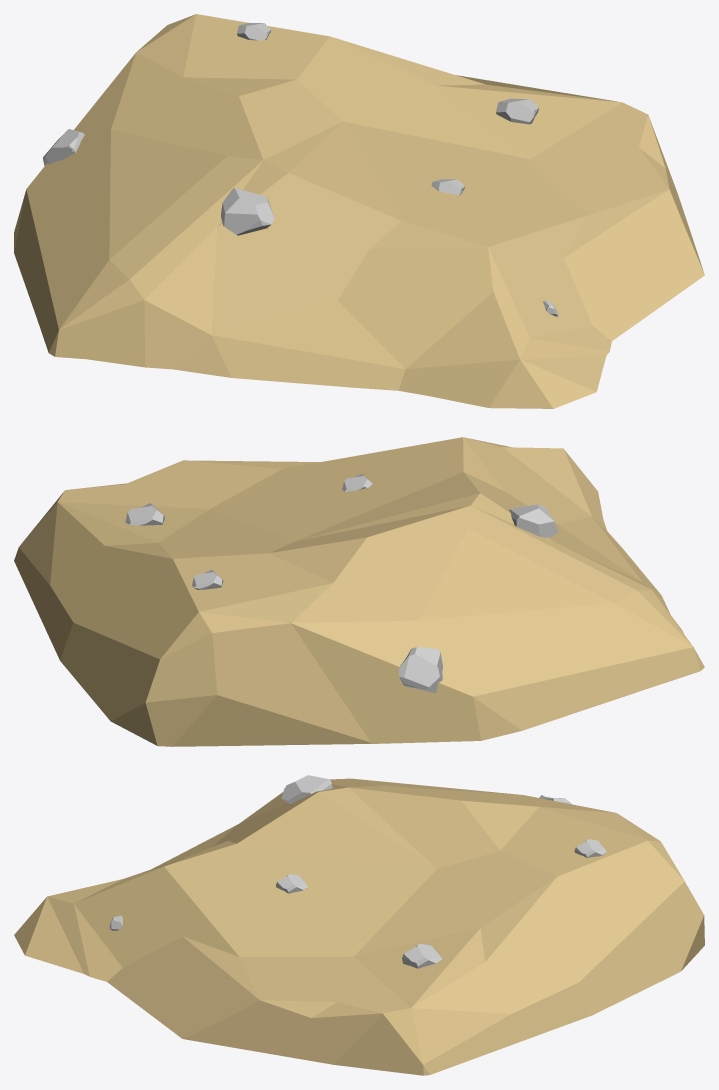
Rendered from Wh_Sand_Pile.fbx.
The picture shows the model from 3 angles, top to bottom: view 1: azimuth 30°, elevation 25°; view 2: azimuth 150°, elevation 25°; view 3: azimuth 270°, elevation 25°; orthographic projection. The views are drawn at different scales.
Parts seen in each view (by area): view 1: LowPolyRock.014; view 2: LowPolyRock.014; view 3: LowPolyRock.014.
Boxes of the visible parts, x1,y1,x2,y2 form: LowPolyRock.014: (14, 14, 704, 408); LowPolyRock.014: (14, 437, 704, 746); LowPolyRock.014: (14, 775, 704, 1075).
Bounding box in the file's own units: 697 × 134 × 742.
